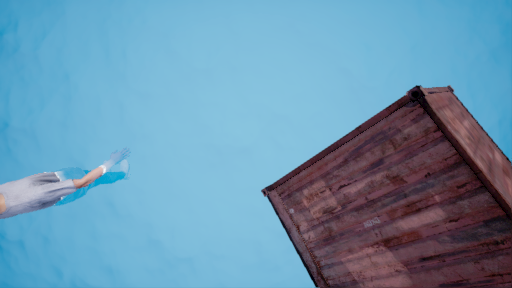person: (2, 157, 143, 210)
